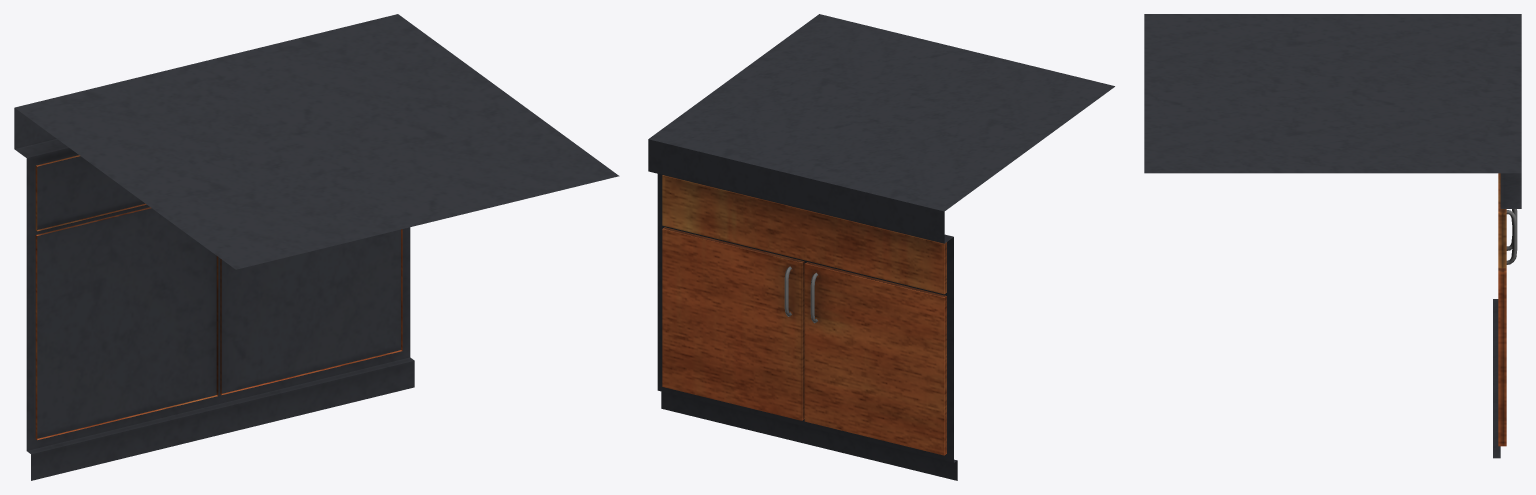
Rendered from CounterBasicV1.fbx.
The picture shows the model from 3 angles, left to right: view 1: azimuth 30°, elevation 25°; view 2: azimuth 150°, elevation 25°; view 3: azimuth 270°, elevation 25°; orthographic projection. The views are drawn at different scales.
Visible parts, largest first — view 1: CounterBasicV1; view 2: CounterBasicV1; view 3: CounterBasicV1.
Part boxes in pixels (box(x1,y1,x2,y2)): CounterBasicV1: box(14, 14, 619, 480); CounterBasicV1: box(648, 14, 1114, 480); CounterBasicV1: box(1144, 14, 1521, 458).
Size of the model in its own units: 152 by 137 by 152.
